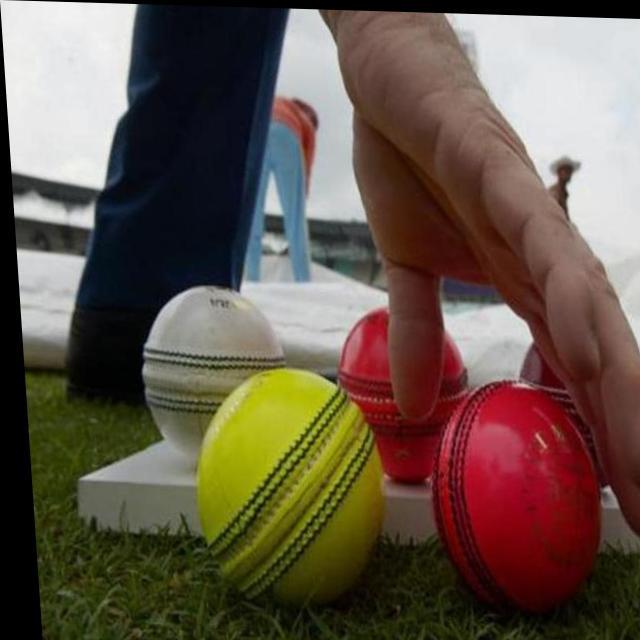cricket ball: (190, 367, 379, 605), (422, 376, 595, 613), (136, 285, 282, 462)
